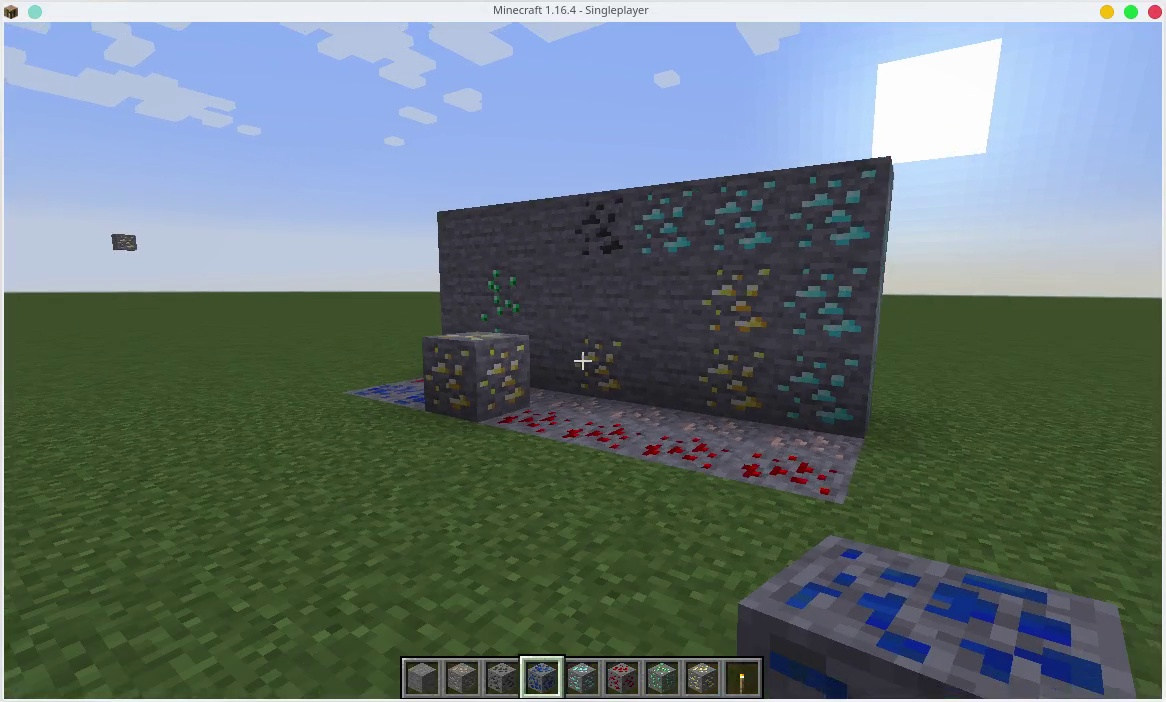gold: (420, 328, 530, 415), (702, 271, 779, 349), (694, 346, 779, 416), (572, 337, 638, 396), (690, 661, 718, 695)
